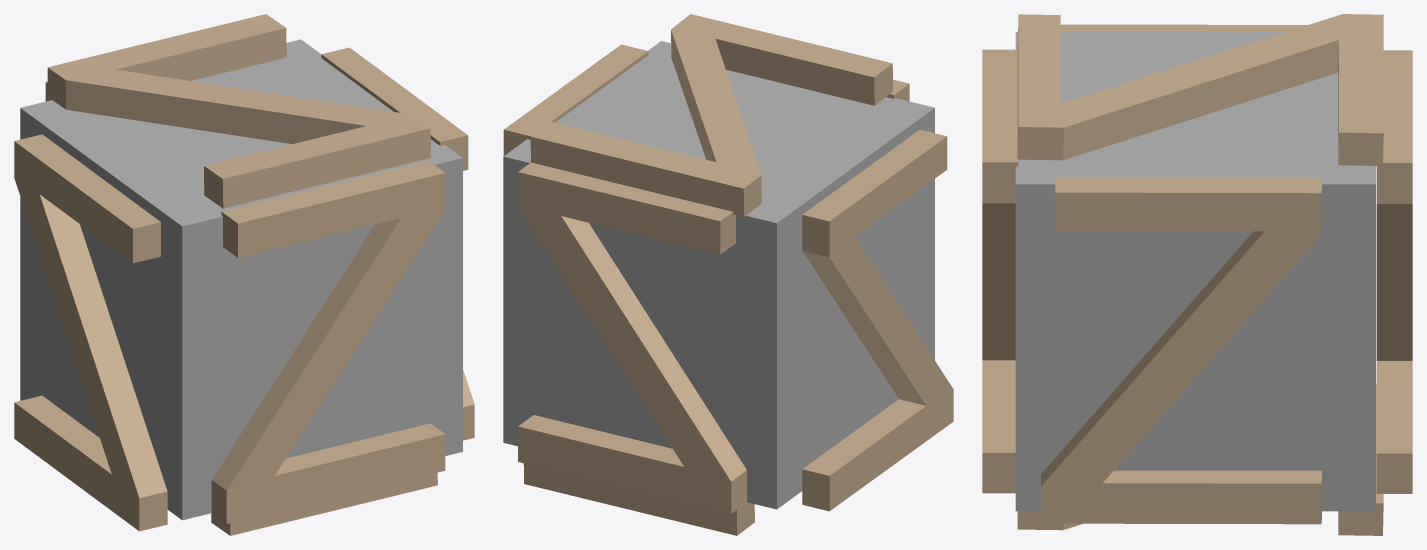
Rendered from LetterZ.fbx.
3 views of the same model, side by side, from view 1: azimuth 30°, elevation 25°; view 2: azimuth 150°, elevation 25°; view 3: azimuth 270°, elevation 25° (orthographic). The views are drawn at different scales.
Parts seen in each view (by area): view 1: Box, Text Front, Text Top, Text Left, Text Right, Text Bottom; view 2: Box, Text Back, Text Top, Text Left, Text Bottom, Text Right; view 3: Box, Text Right, Text Top, Text Back, Text Front, Text Bottom, Text Left.
Boxes of the visible parts, x1=… form: Box: x1=20, y1=39, x2=462, y2=520; Text Front: x1=211, y1=161, x2=445, y2=523; Text Top: x1=47, y1=14, x2=430, y2=208; Text Left: x1=14, y1=134, x2=167, y2=531; Text Right: x1=321, y1=47, x2=474, y2=440; Text Bottom: x1=211, y1=472, x2=437, y2=535; Box: x1=503, y1=41, x2=934, y2=509; Text Back: x1=518, y1=162, x2=746, y2=513; Text Top: x1=530, y1=14, x2=892, y2=216; Text Left: x1=802, y1=129, x2=953, y2=511; Text Bottom: x1=523, y1=463, x2=754, y2=535; Text Right: x1=503, y1=44, x2=648, y2=155; Box: x1=1015, y1=32, x2=1375, y2=511; Text Right: x1=1041, y1=177, x2=1321, y2=524; Text Top: x1=1017, y1=14, x2=1383, y2=165; Text Back: x1=1376, y1=50, x2=1412, y2=493; Text Front: x1=982, y1=49, x2=1018, y2=493; Text Bottom: x1=1017, y1=384, x2=1383, y2=535; Text Left: x1=1060, y1=24, x2=1307, y2=31.
Bounding box in the file's own units: 1.2 × 1.24 × 1.19.
